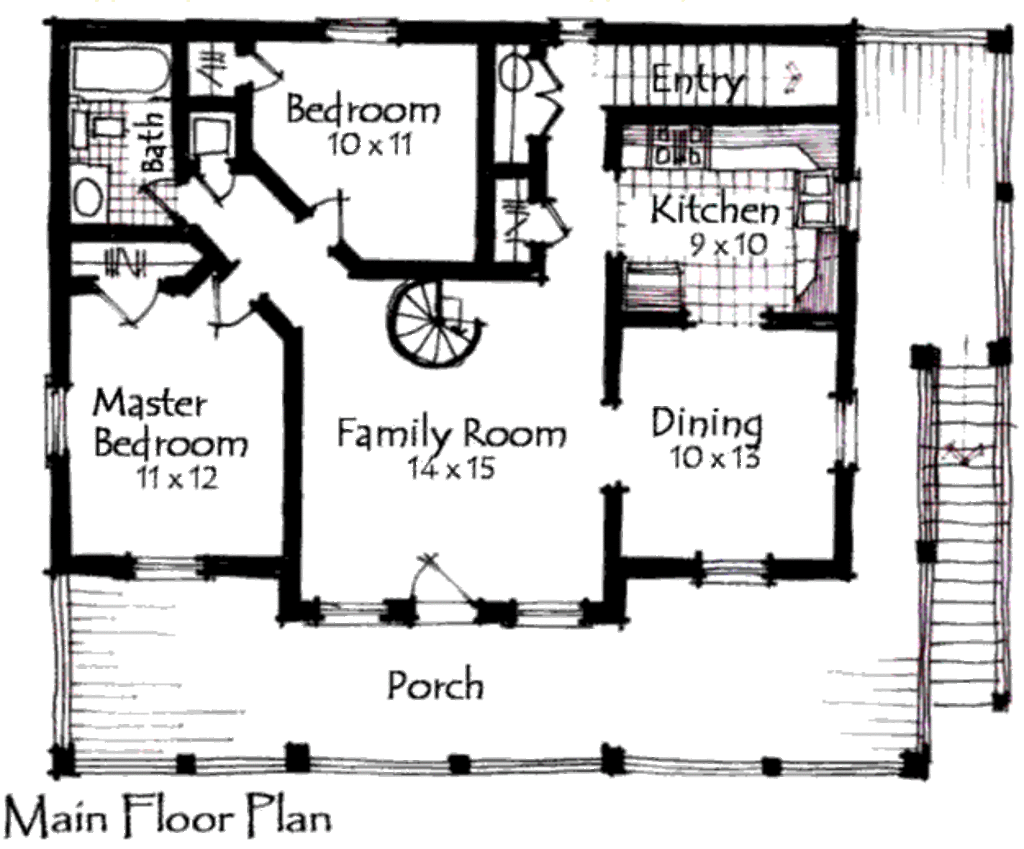door: (92, 276, 163, 332), (202, 277, 258, 339), (522, 58, 566, 132), (303, 190, 352, 250), (136, 177, 189, 220), (539, 198, 583, 245), (245, 50, 293, 93), (198, 171, 244, 206)
large_sink: (68, 106, 133, 159)
small_sink: (67, 164, 110, 223)
stairs: (916, 342, 1024, 715), (590, 42, 840, 116), (374, 275, 506, 385)
tub: (66, 34, 172, 100)
twin_sink: (796, 171, 836, 229)
window: (696, 550, 779, 591), (126, 546, 206, 584), (320, 595, 388, 630), (324, 16, 406, 45), (41, 384, 76, 450), (519, 600, 583, 630), (832, 397, 859, 464), (554, 15, 596, 42)
